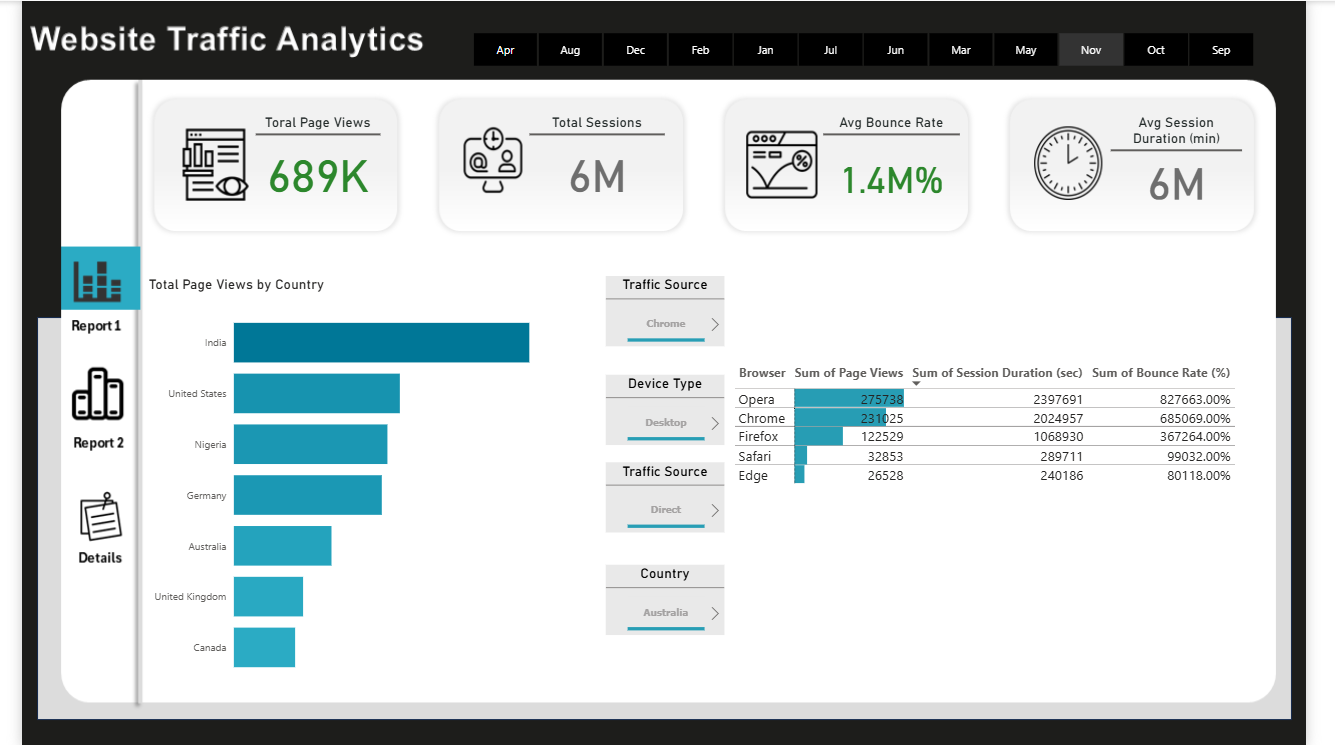

Layout of this report page (visuals, bound fields, positions):
{"tool":"powerbi","page":{"name":"Report1","canvas":[1550,900],"ordinal":0},"visuals":[{"type":"clusteredBarChart","fields":{"Category":["website analytics dataset.Country"],"Y":["Sum(website analytics dataset.Page Views)"]},"box":[147.1,332.4,547.1,502.9],"z":0},{"type":"slicer","fields":{"Values":["website analytics dataset.Month"]},"box":[519.4,32.3,990.3,53.2],"z":1000},{"type":"card","title":"Toral Page Views","fields":{"Values":["Sum(website analytics dataset.Page Views)"]},"box":[282.3,135.5,150,109.7],"z":2000},{"type":"card","title":"Total Sessions","fields":{"Values":["Sum(website analytics dataset.Session Duration (sec))"]},"box":[612.9,135.5,162.9,109.7],"z":3000},{"type":"card","title":"Avg Bounce Rate","fields":{"Values":["Sum(website analytics dataset.Avg Bounce Rate)"]},"box":[966.1,135.5,164.5,122.6],"z":4000},{"type":"card","title":"Avg Session Duration (min)","fields":{"Values":["Sum(website analytics dataset.Session Duration (sec))"]},"box":[1312.9,135.5,158.1,109.7],"z":5000},{"type":"slicer","title":"Traffic Source","fields":{"Values":["website analytics dataset.Browser"]},"box":[703.7,332.1,143.2,85.2],"z":6000},{"type":"slicer","title":"Device Type","fields":{"Values":["website analytics dataset.Device Type"]},"box":[703.7,450.6,143.2,85.2],"z":7000},{"type":"slicer","title":"Traffic Source","fields":{"Values":["website analytics dataset.Traffic Source"]},"box":[703.7,556.8,143.2,85.2],"z":8000},{"type":"slicer","title":"Country","fields":{"Values":["website analytics dataset.Country"]},"box":[703.7,680.2,143.2,85.2],"z":9000},{"type":"tableEx","fields":{"Values":["website analytics dataset.Browser","Sum(website analytics dataset.Page Views)","Sum(website analytics dataset.Session Duration (sec))","Sum(website analytics dataset.Bounce Rate (%))"]},"box":[853.2,432.3,656.5,250],"z":10000},{"type":"actionButton","box":[56.7,432.8,71.6,82.1],"z":10001},{"type":"actionButton","box":[56.7,583.6,71.6,73.1],"z":10002}]}

Visuals, with their boxes on the page's 1550x900 design canvas (x1, y1, x2, y2). These are canvas units, not pixel positions in the 1335x745 screenshot, which may show the page scaled, cropped or inside an application window:
clusteredBarChart - website analytics dataset.Country x Sum(website analytics dataset.Page Views): bbox=[147, 332, 694, 835]
slicer - website analytics dataset.Month: bbox=[519, 32, 1510, 86]
"Toral Page Views" card: bbox=[282, 136, 432, 245]
"Total Sessions" card: bbox=[613, 136, 776, 245]
"Avg Bounce Rate" card: bbox=[966, 136, 1131, 258]
"Avg Session Duration (min)" card: bbox=[1313, 136, 1471, 245]
"Traffic Source" slicer: bbox=[704, 332, 847, 417]
"Device Type" slicer: bbox=[704, 451, 847, 536]
"Traffic Source" slicer: bbox=[704, 557, 847, 642]
"Country" slicer: bbox=[704, 680, 847, 765]
tableEx - website analytics dataset.Browser x Sum(website analytics dataset.Page Views): bbox=[853, 432, 1510, 682]
actionButton: bbox=[57, 433, 128, 515]
actionButton: bbox=[57, 584, 128, 657]
